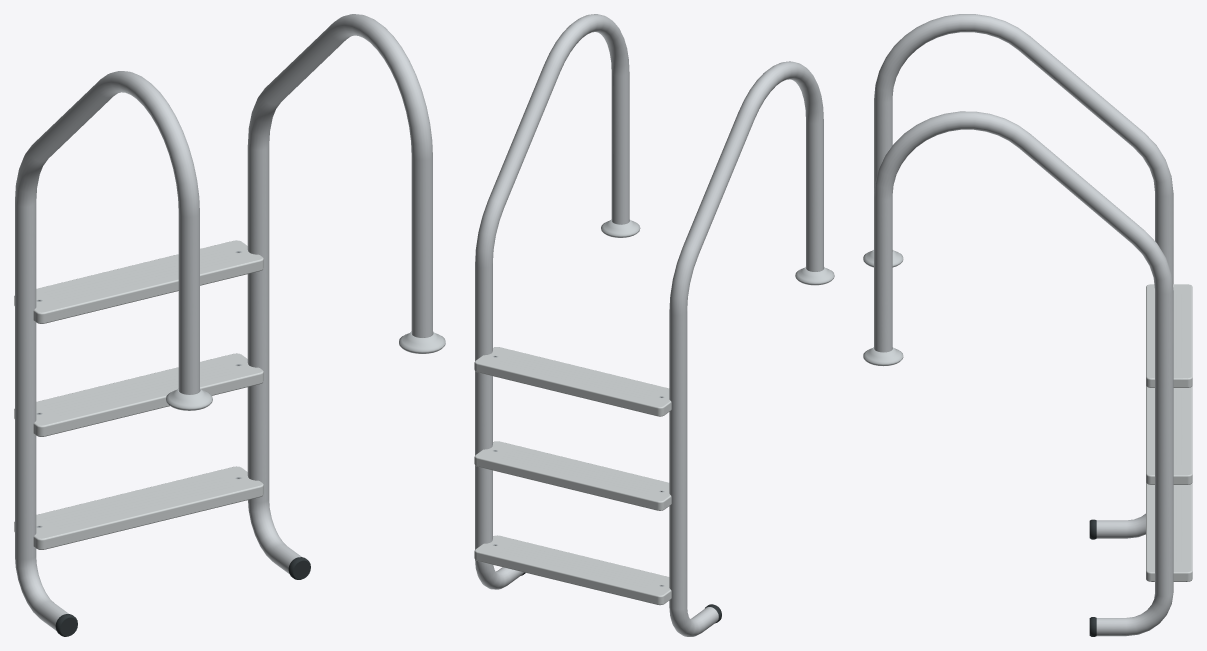
The model's file is pool_ladder.glb.
The picture shows the model from 3 angles, left to right: view 1: azimuth 30°, elevation 25°; view 2: azimuth 150°, elevation 25°; view 3: azimuth 270°, elevation 25°; orthographic projection. The views are drawn at different scales.
Parts seen in each view (by area): view 1: Pool_Ladder_3Step; view 2: Pool_Ladder_3Step; view 3: Pool_Ladder_3Step.
Boxes of the visible parts, bbox=[...] form: Pool_Ladder_3Step: bbox=[14, 14, 445, 636]; Pool_Ladder_3Step: bbox=[474, 14, 834, 636]; Pool_Ladder_3Step: bbox=[863, 14, 1192, 636].
Size of the model in its own units: 0.646 by 1.38 by 0.786.
1 material, 1 textured.
